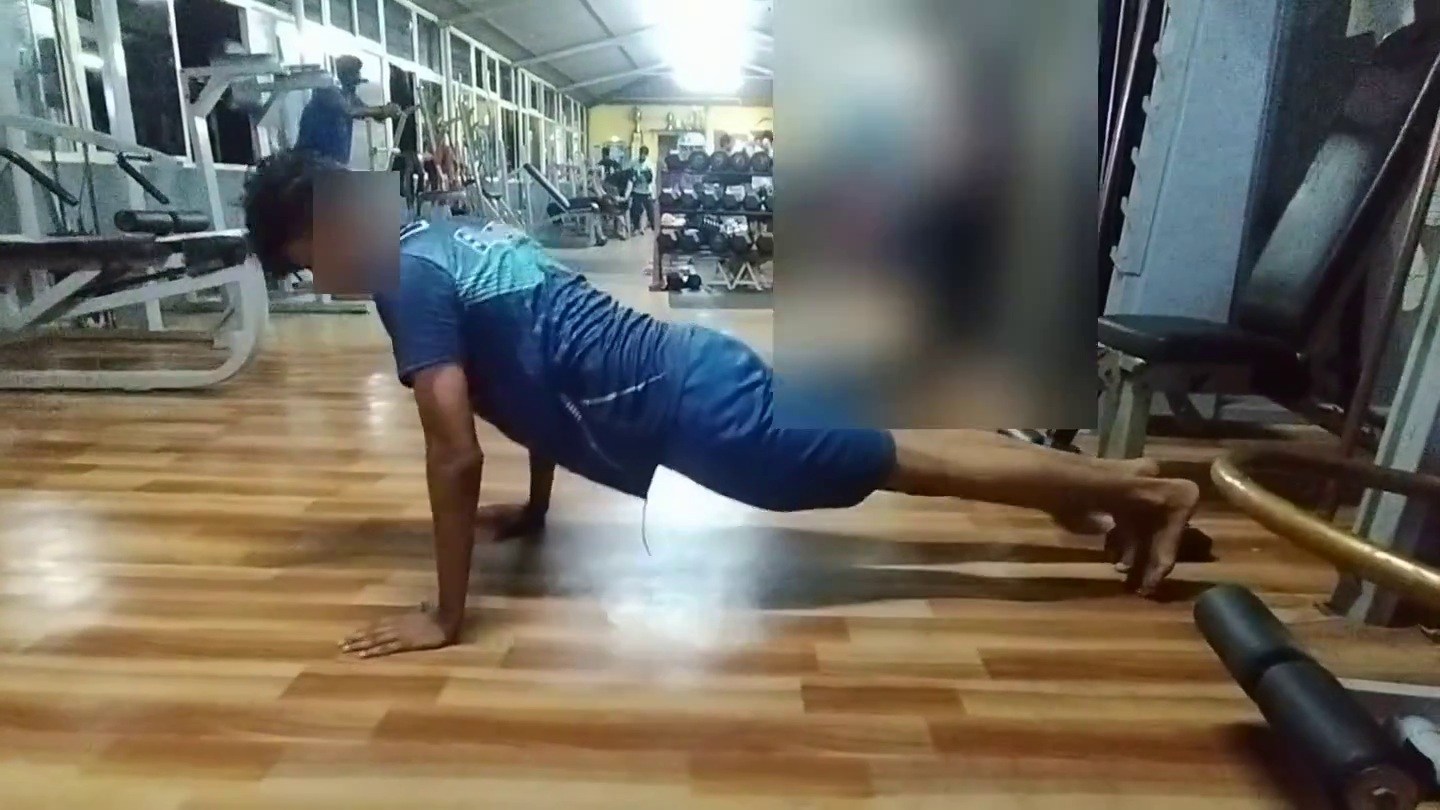push_up_correct: (209, 157, 1250, 728)
